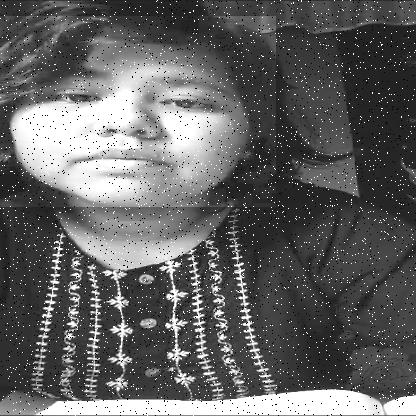Normal: (0, 16, 276, 207)
